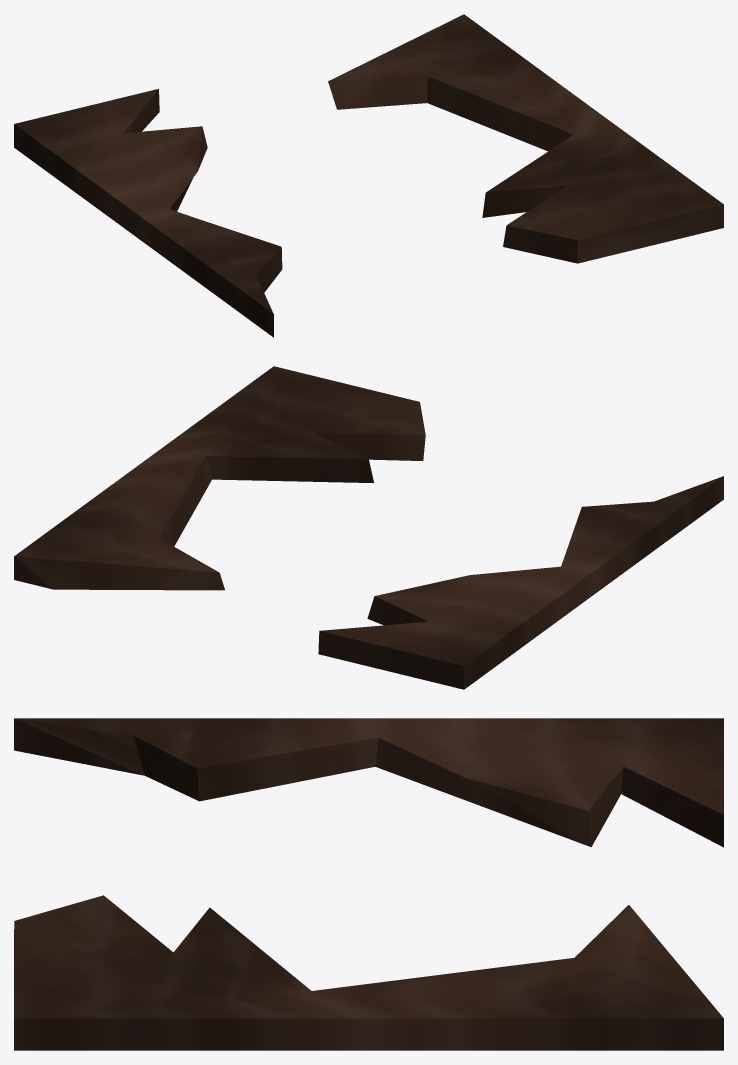
Rendered from destroyed_floor.fbx.
The picture shows the model from 3 angles, top to bottom: view 1: azimuth 30°, elevation 25°; view 2: azimuth 150°, elevation 25°; view 3: azimuth 270°, elevation 25°; orthographic projection. The views are drawn at different scales.
Visible parts, largest first — view 1: destroyed_floor; view 2: destroyed_floor; view 3: destroyed_floor.
Boxes of the visible parts, x1,y1,x2,y2 form: destroyed_floor: [14, 14, 723, 337]; destroyed_floor: [14, 366, 723, 689]; destroyed_floor: [14, 718, 723, 1050].
Size of the model in its own units: 200 by 10 by 200.
1 material, 1 textured.
